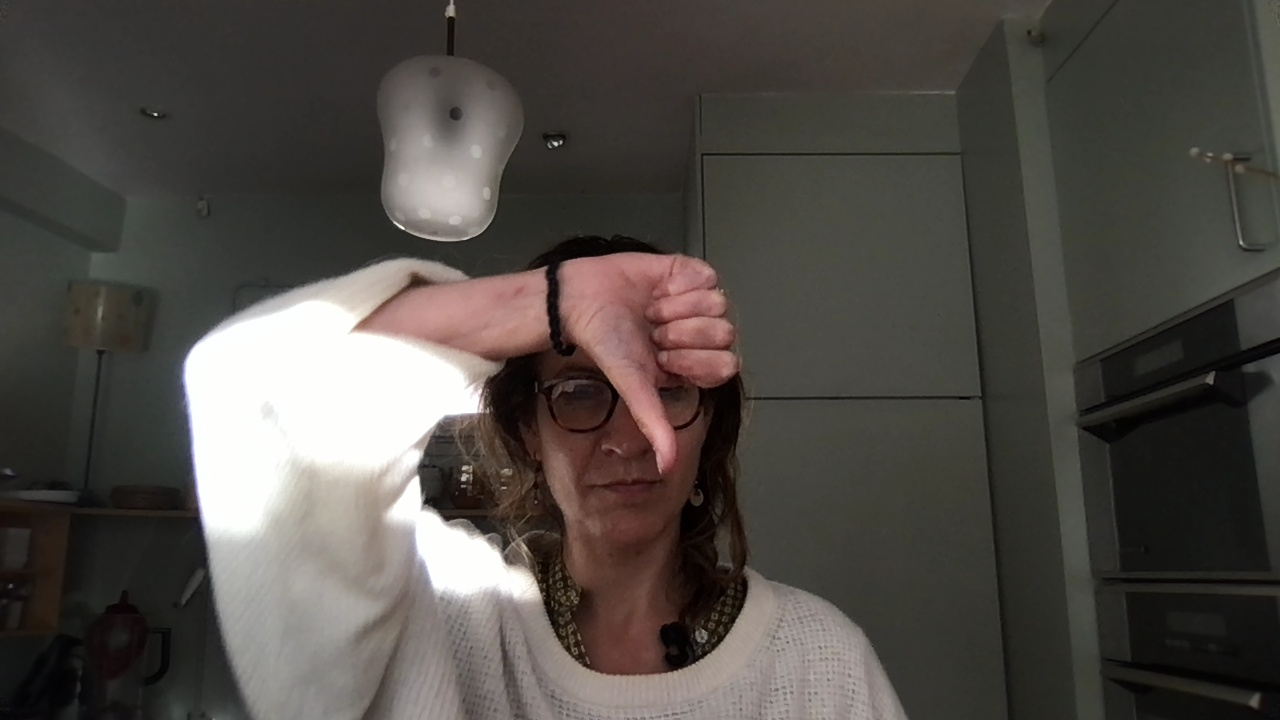thumbDown: (563, 252, 739, 475)
